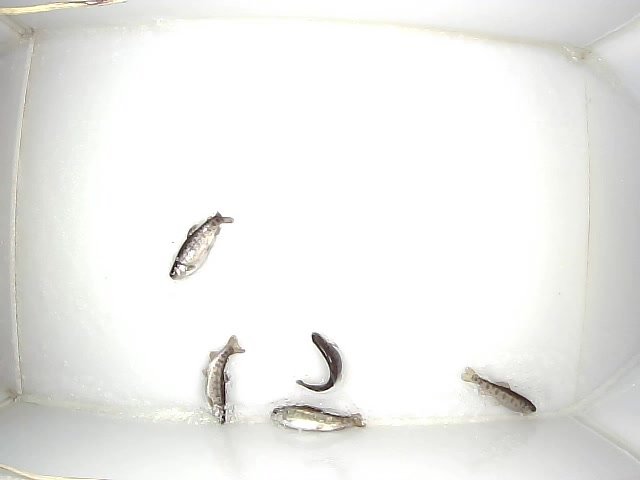fish: (169, 211, 234, 281), (202, 335, 245, 425), (460, 367, 537, 416), (296, 332, 342, 392), (270, 405, 367, 432)
